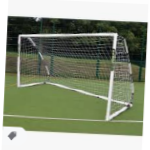goals: (15, 30, 136, 121)
